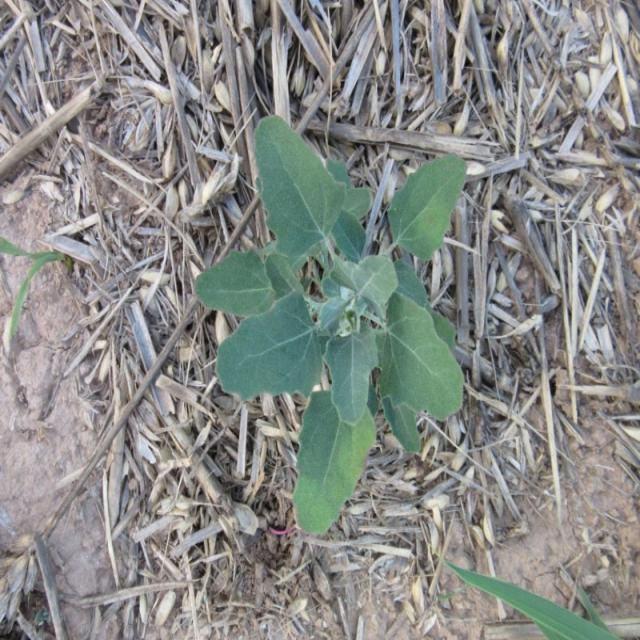ca: (195, 112, 464, 539)
